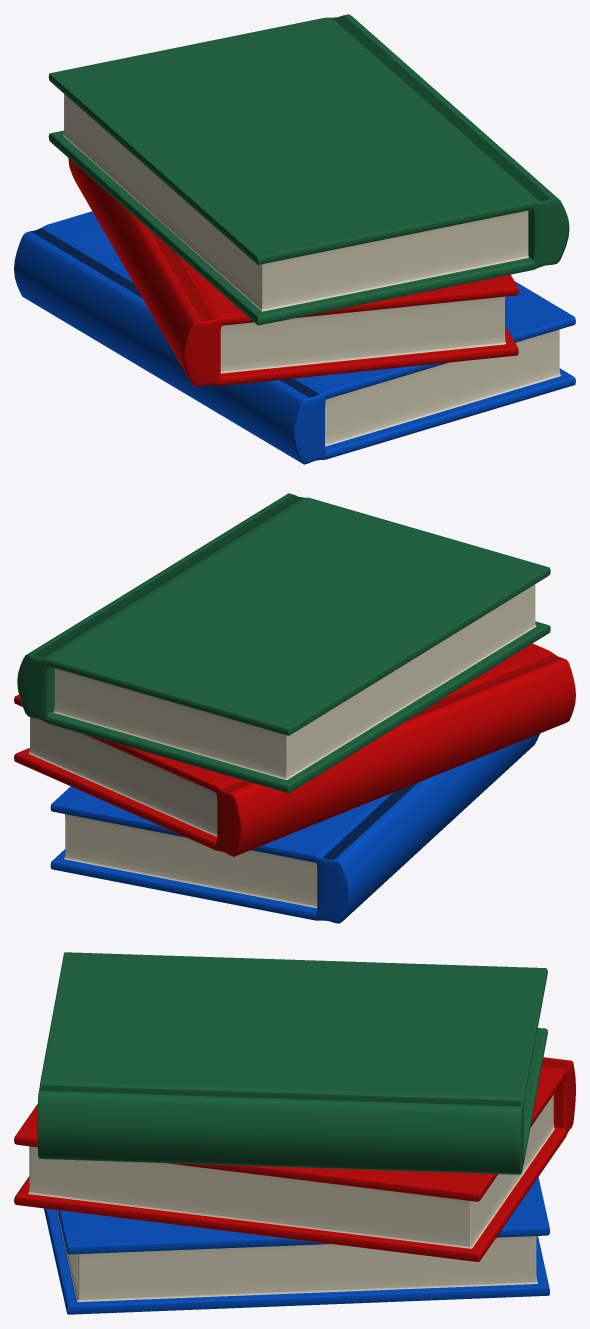
The model's file is Stack_of_Books.fbx.
3 views of the same model, one above another, from view 1: azimuth 30°, elevation 25°; view 2: azimuth 150°, elevation 25°; view 3: azimuth 270°, elevation 25° (orthographic). The views are drawn at different scales.
Parts seen in each view (by area): view 1: pCube4, pCube2, pCube3; view 2: pCube4, pCube3, pCube2; view 3: pCube4, pCube3, pCube2.
Boxes of the visible parts, x1,y1,x2,y2 form: pCube4: [48, 14, 569, 325]; pCube2: [14, 211, 575, 464]; pCube3: [68, 158, 518, 386]; pCube4: [17, 493, 550, 793]; pCube3: [14, 643, 575, 856]; pCube2: [50, 733, 540, 923]; pCube4: [37, 952, 547, 1174]; pCube3: [14, 1057, 575, 1262]; pCube2: [44, 1177, 550, 1314].
Size of the model in its own units: 8.71 by 4.26 by 10.47.
